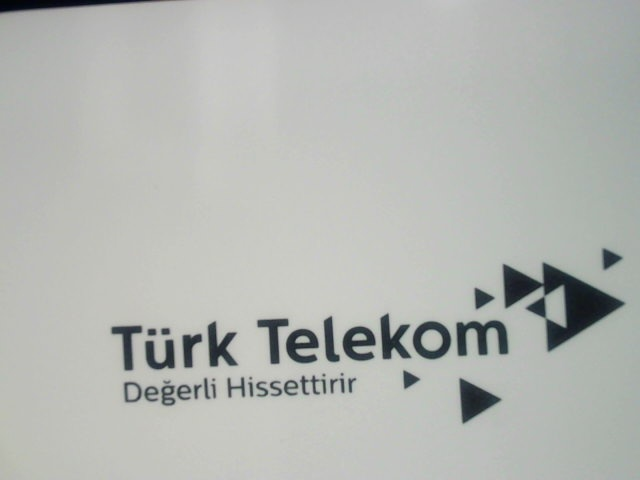AQ_TURKTelekom: (101, 244, 634, 426)
